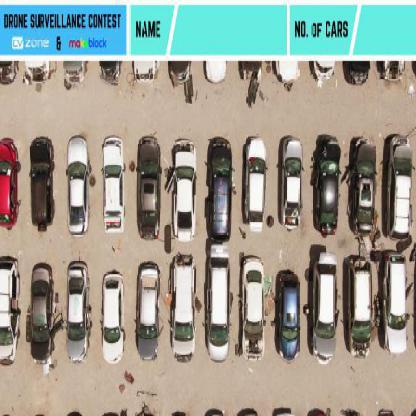car: (345, 133, 377, 244), (310, 137, 341, 235), (136, 136, 162, 242), (313, 250, 337, 364), (241, 256, 265, 367), (387, 135, 411, 243), (384, 251, 409, 353), (67, 260, 92, 360), (209, 239, 230, 358), (173, 254, 196, 362), (174, 140, 198, 242), (31, 260, 55, 362), (208, 138, 232, 239), (135, 260, 159, 358), (29, 138, 55, 228), (67, 138, 91, 234), (276, 270, 301, 362), (102, 138, 125, 235), (1, 251, 20, 367), (103, 273, 125, 363), (282, 139, 303, 231), (246, 139, 267, 229), (1, 139, 21, 230)
